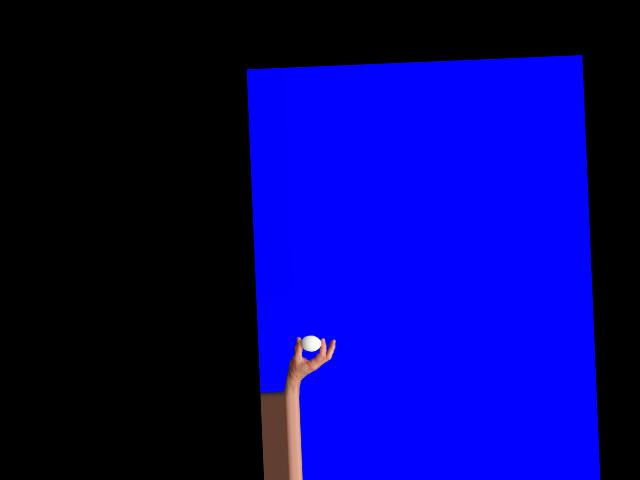egg: (300, 334, 321, 351)
